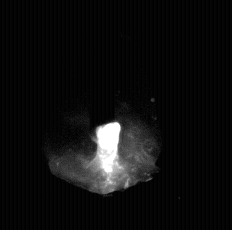arame: (92, 0, 118, 135)
poca: (47, 0, 158, 230)
